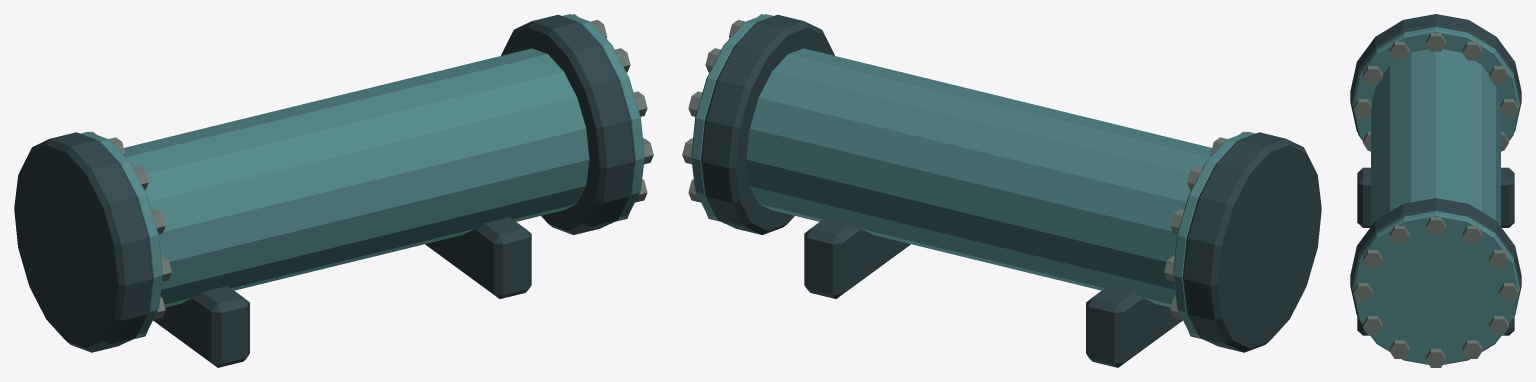
The model's file is pipe-straight.glb.
3 views of the same model, side by side, from view 1: azimuth 30°, elevation 25°; view 2: azimuth 150°, elevation 25°; view 3: azimuth 270°, elevation 25° (orthographic). The views are drawn at different scales.
Parts seen in each view (by area): view 1: pipe-straight__pipe-straight__petrol, pipe-straight__pipe-straight__steel, pipe-straight__pipe-straight__hardware; view 2: pipe-straight__pipe-straight__petrol, pipe-straight__pipe-straight__steel, pipe-straight__pipe-straight__hardware; view 3: pipe-straight__pipe-straight__petrol, pipe-straight__pipe-straight__steel, pipe-straight__pipe-straight__hardware.
Boxes of the visible parts, x1,y1,x2,y2 form: pipe-straight__pipe-straight__petrol: (80,14,644,341); pipe-straight__pipe-straight__steel: (14,14,634,367); pipe-straight__pipe-straight__hardware: (90,14,653,339); pipe-straight__pipe-straight__petrol: (691,14,1255,341); pipe-straight__pipe-straight__steel: (701,14,1321,367); pipe-straight__pipe-straight__hardware: (682,14,1245,339); pipe-straight__pipe-straight__petrol: (1352,27,1519,364); pipe-straight__pipe-straight__steel: (1350,14,1521,335); pipe-straight__pipe-straight__hardware: (1353,33,1518,367).
Bounding box in the file's own units: 2.09 × 0.79 × 0.74.
